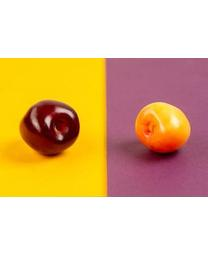cherry: (18, 98, 80, 156), (134, 102, 191, 154)
